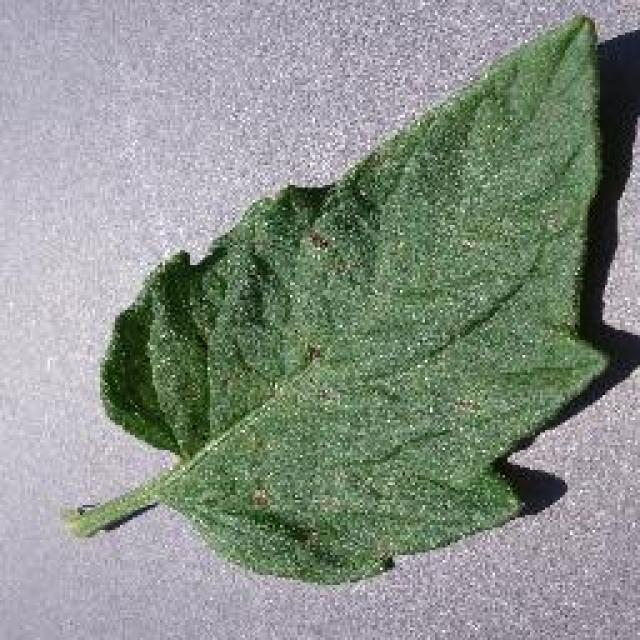Tomato___Septoria_leaf_spot: (68, 18, 608, 580)
